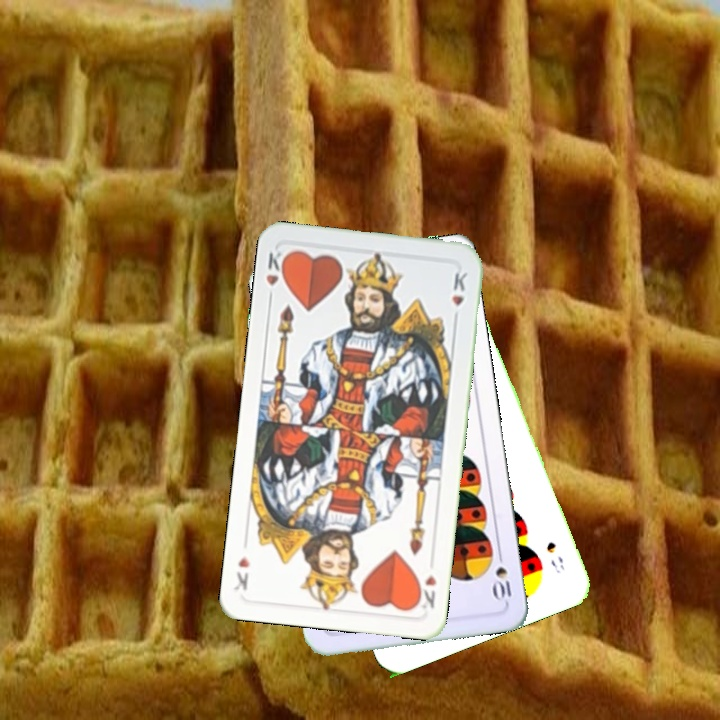HK: (262, 246, 291, 305), (412, 571, 439, 612)
S10: (489, 546, 514, 605)
S8: (542, 537, 568, 576)
